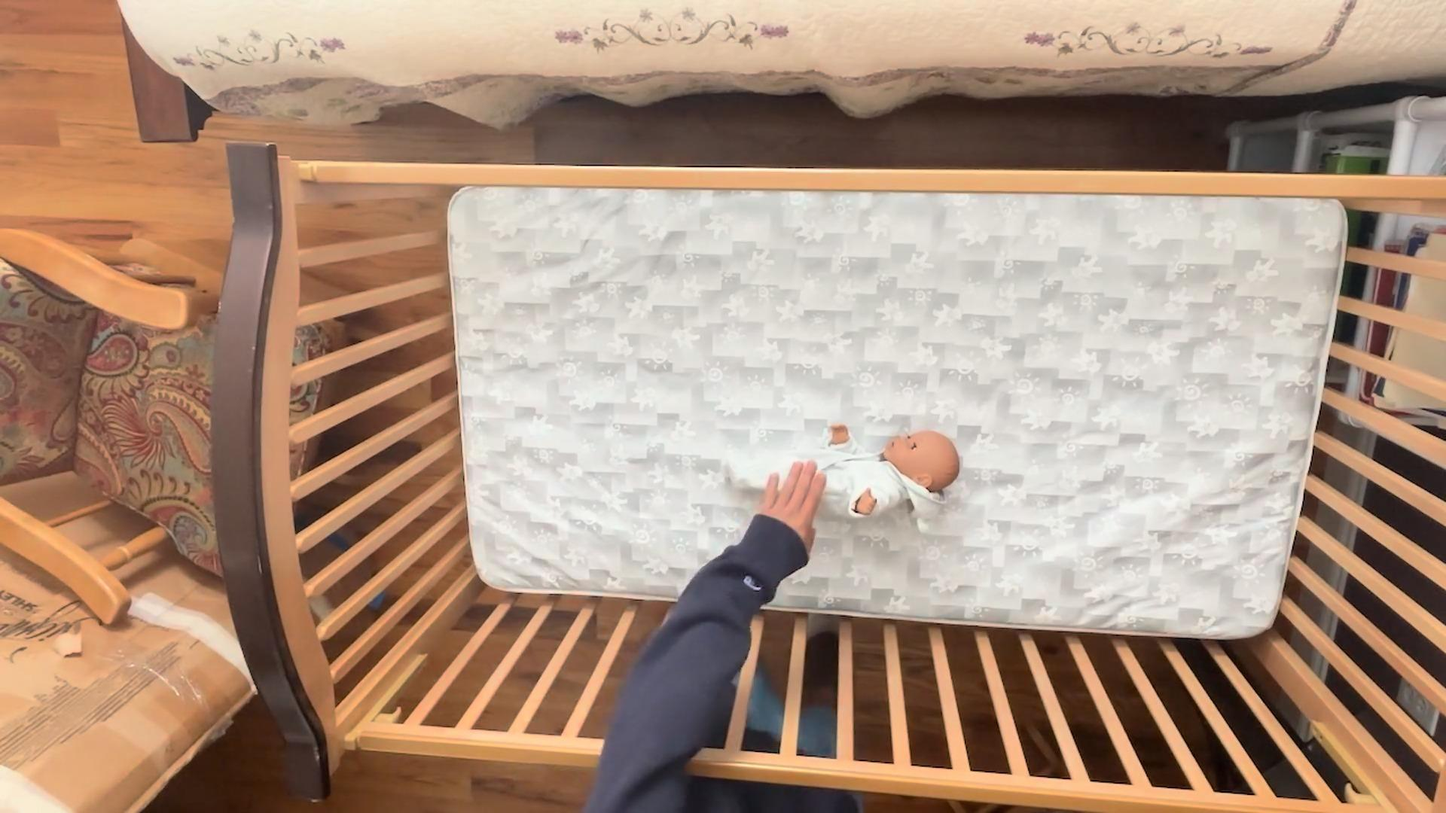baby: (724, 413, 964, 536)
